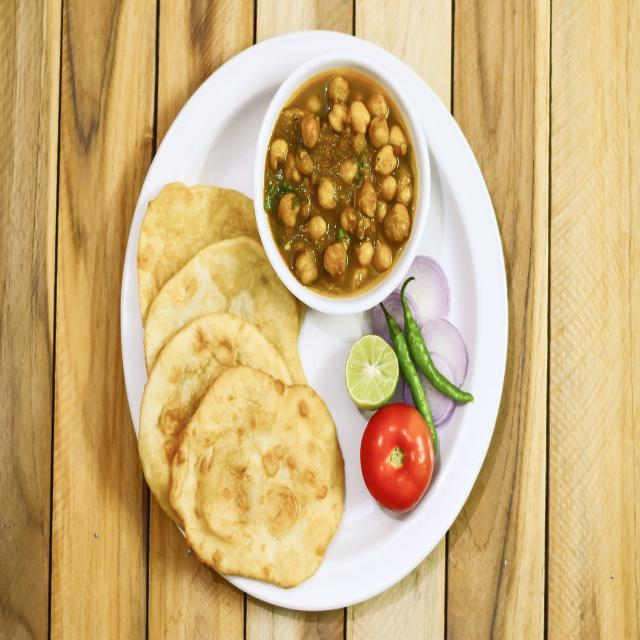Bhatura: (139, 190, 343, 586)
Dal: (266, 77, 412, 287)
Salad: (360, 278, 467, 499)
